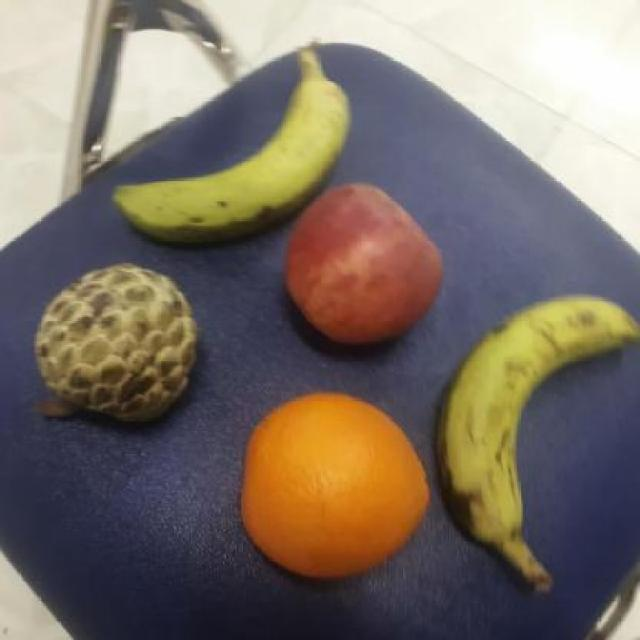apple: (281, 179, 447, 345)
banana: (435, 290, 639, 550), (108, 70, 354, 248)
oren: (238, 386, 434, 582)
sugar apple: (31, 261, 205, 425)
